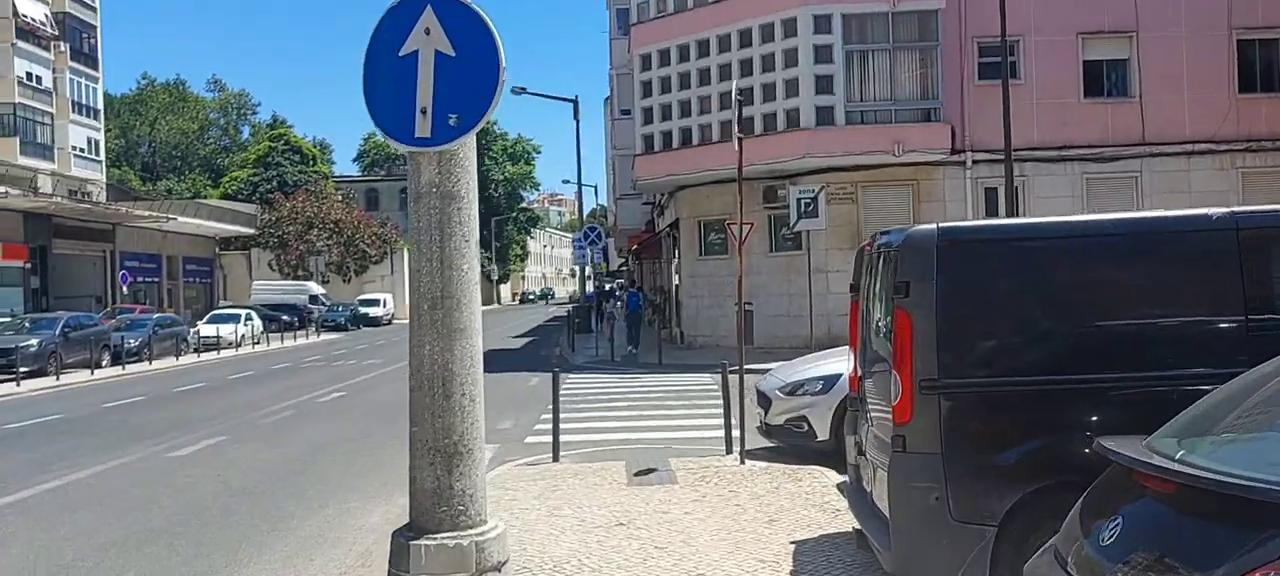sentido obrigatorio: (360, 0, 504, 149)
